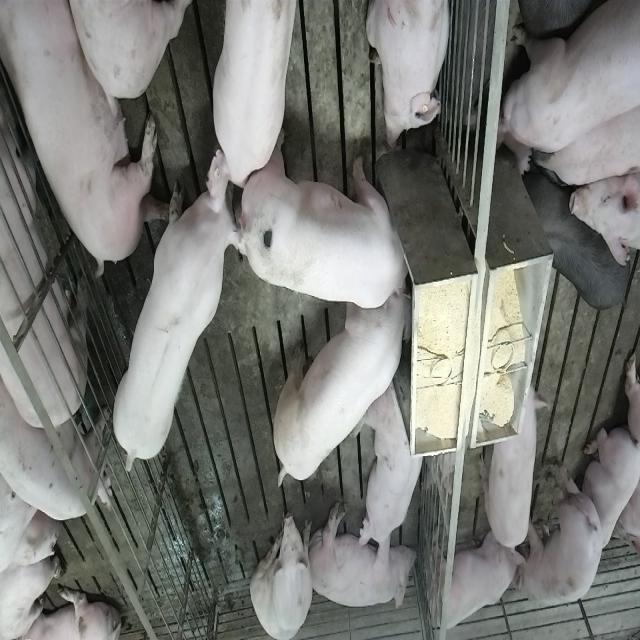Feeding: (268, 280, 411, 496), (244, 148, 418, 310)
Lateral_lying: (3, 1, 170, 274), (307, 501, 417, 611)
Sitting: (423, 518, 519, 640), (250, 503, 314, 638)
Standing: (112, 158, 246, 483), (0, 0, 91, 438), (498, 0, 637, 166), (512, 464, 628, 610), (211, 0, 301, 187), (523, 166, 635, 310), (0, 384, 110, 526), (484, 378, 544, 561), (527, 92, 637, 190)
Sternal_lying: (365, 0, 453, 150), (362, 382, 429, 560), (573, 426, 639, 566)
